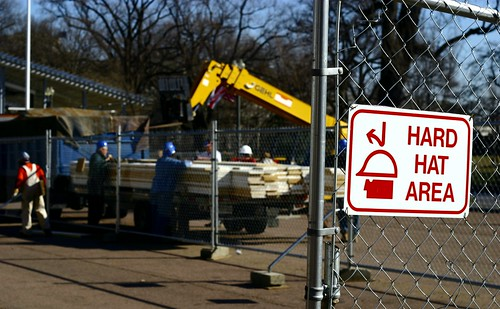person hardhat: (12, 151, 57, 237), (154, 137, 187, 232), (90, 136, 121, 223), (235, 136, 257, 167)
